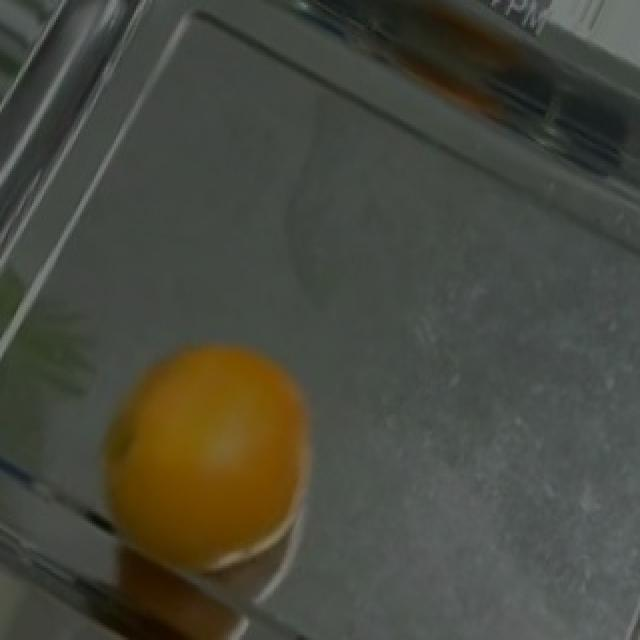Fruit: (72, 315, 338, 605)
